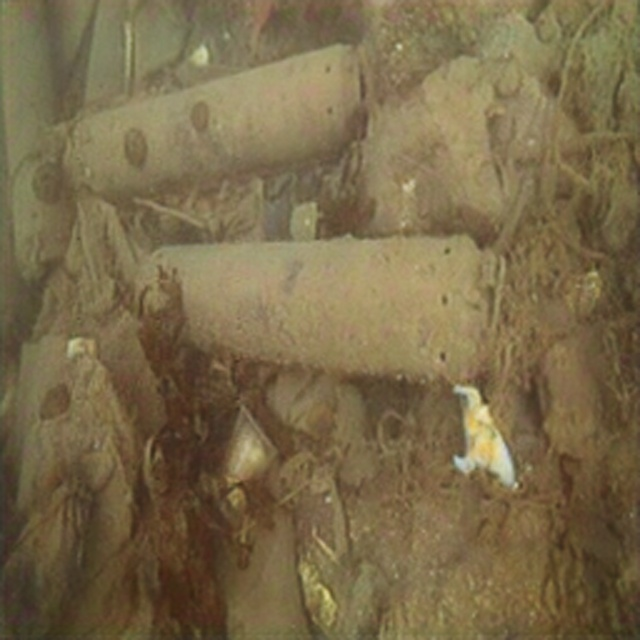mine: (129, 231, 497, 381), (67, 40, 363, 192), (0, 0, 68, 295)
